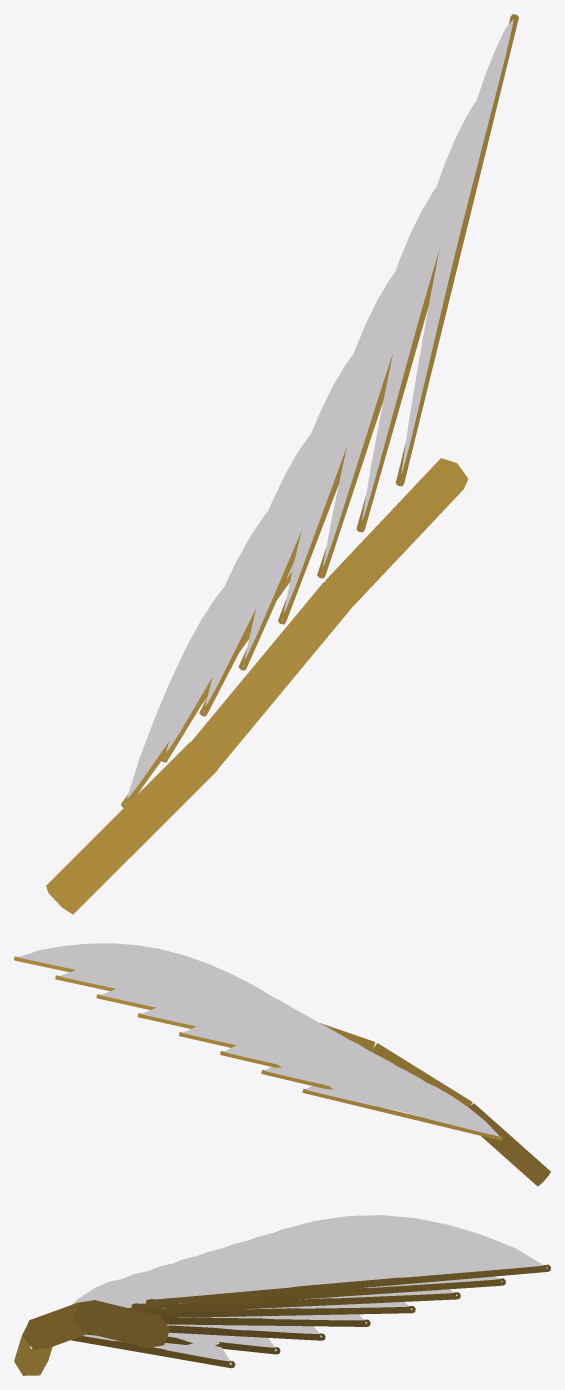
File: crown_inheritance_wing_right.obj
The picture shows the model from 3 angles, top to bottom: view 1: azimuth 30°, elevation 25°; view 2: azimuth 150°, elevation 25°; view 3: azimuth 270°, elevation 25°; orthographic projection. The views are drawn at different scales.
Visible parts, largest first — view 1: Wingright; view 2: Wingright; view 3: Wingright.
Part boxes in pixels (left/top/right/bottom): Wingright: left=46, top=14, right=518, bottom=914; Wingright: left=14, top=943, right=550, bottom=1186; Wingright: left=14, top=1215, right=550, bottom=1375.
Bounding box in the file's own units: 1.85 × 1.15 × 1.31.
